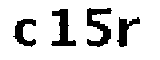1: (46, 5, 79, 51)
5: (84, 4, 114, 52)
c: (12, 16, 40, 51)
r: (116, 15, 141, 49)
